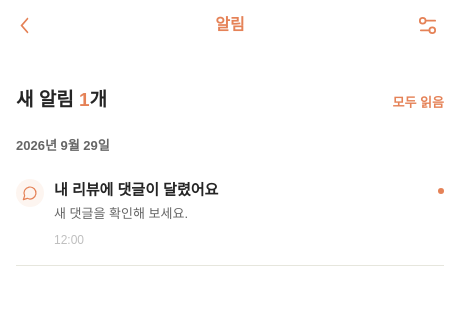
Test: 알림함 › 대상이 삭제된 알림은 읽음 처리 후 알림함에 머문다
Click the button "내 리뷰에 댓글이 달렸어요 새 댓글을 확인해 보세요. 12:00": (136, 190) [16,162,444,266]
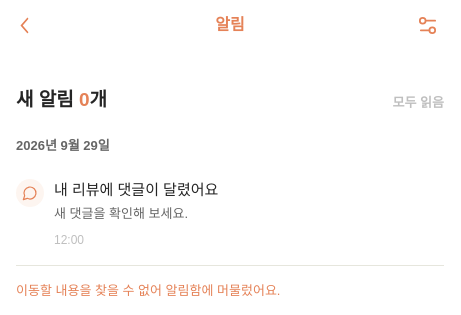
Expected: the text "이동할 내용을 찾을 수 없어 알림함에 머물렀어요." is shown, [16,283,280,298]
